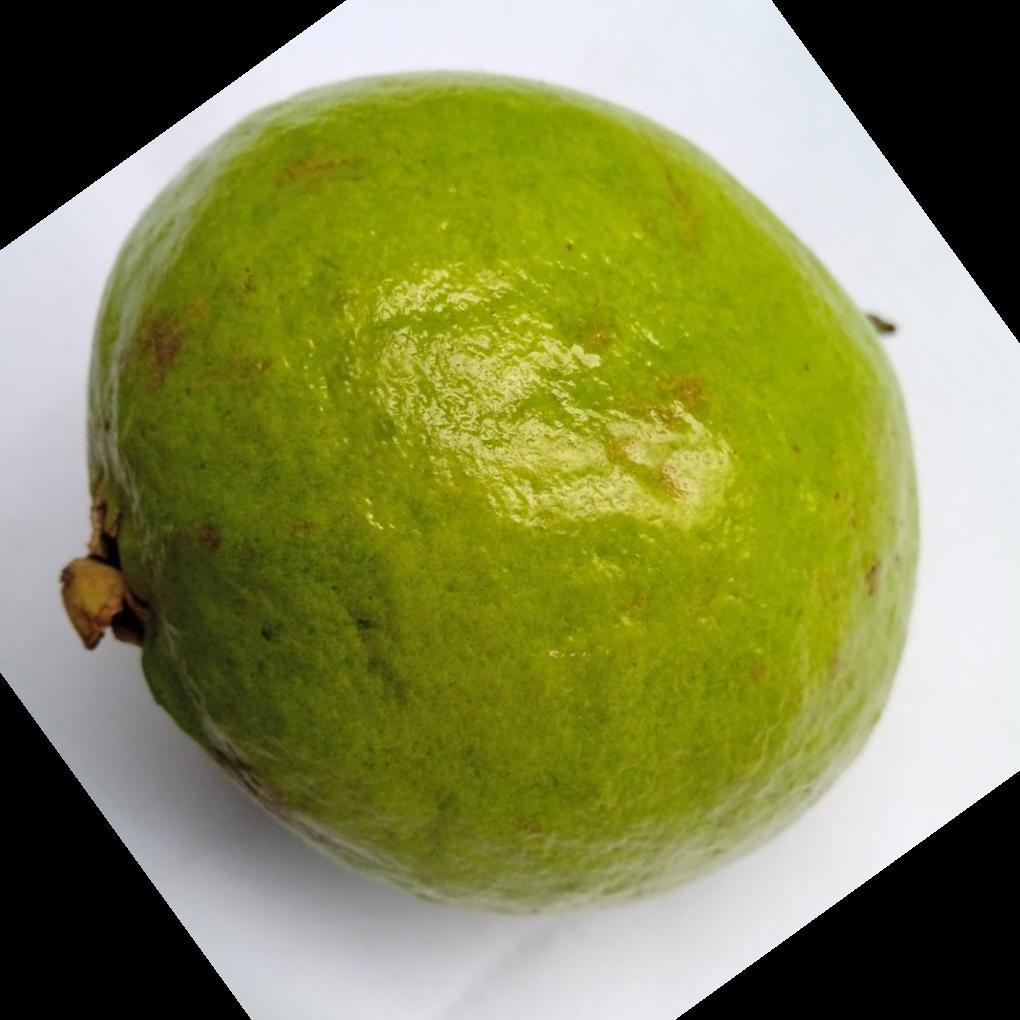FreshGuava: (63, 71, 923, 919)
